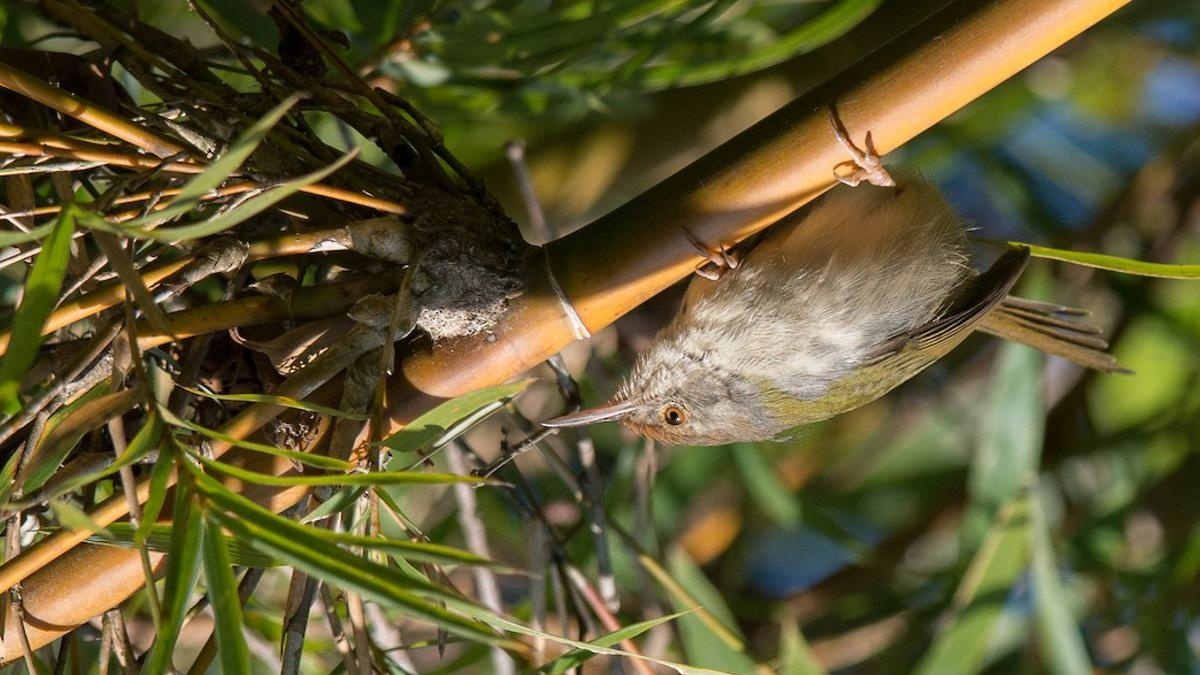tailorbird: (540, 107, 1164, 513)
